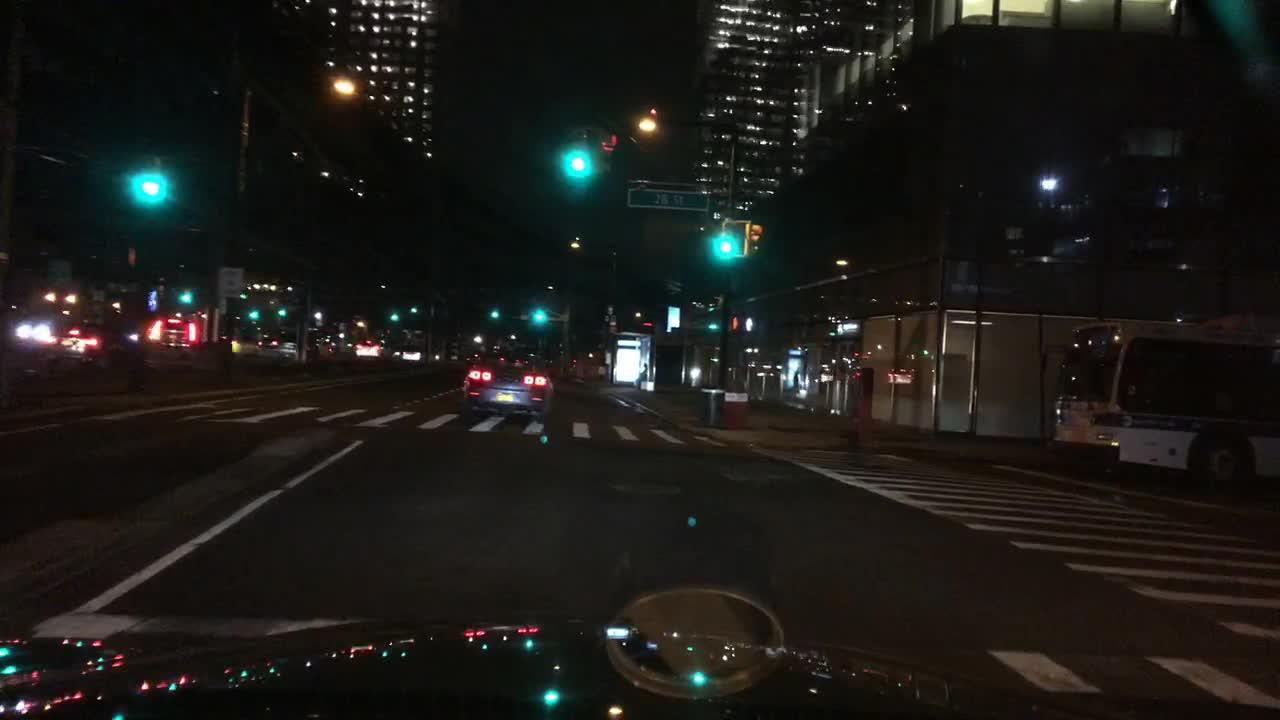bus: (1048, 309, 1278, 493)
car: (9, 312, 159, 395), (461, 349, 554, 425), (143, 311, 206, 352), (258, 328, 318, 358), (349, 339, 393, 357), (311, 328, 340, 355), (400, 346, 425, 360), (463, 348, 480, 361)
traffic light: (131, 153, 161, 202), (568, 122, 589, 174), (596, 125, 617, 177), (726, 314, 743, 336), (751, 221, 761, 255), (179, 294, 195, 304), (533, 314, 548, 323), (486, 311, 503, 318), (408, 306, 421, 315), (278, 309, 290, 318), (249, 312, 261, 321), (387, 315, 402, 322)
traffic sign: (626, 185, 715, 213), (218, 266, 248, 300)
